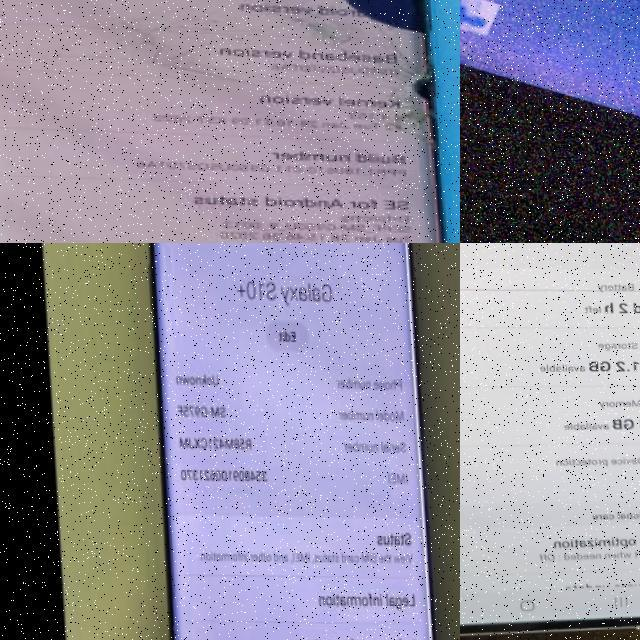dead pixel: (283, 0, 447, 36)
screen crack: (0, 0, 460, 157)
